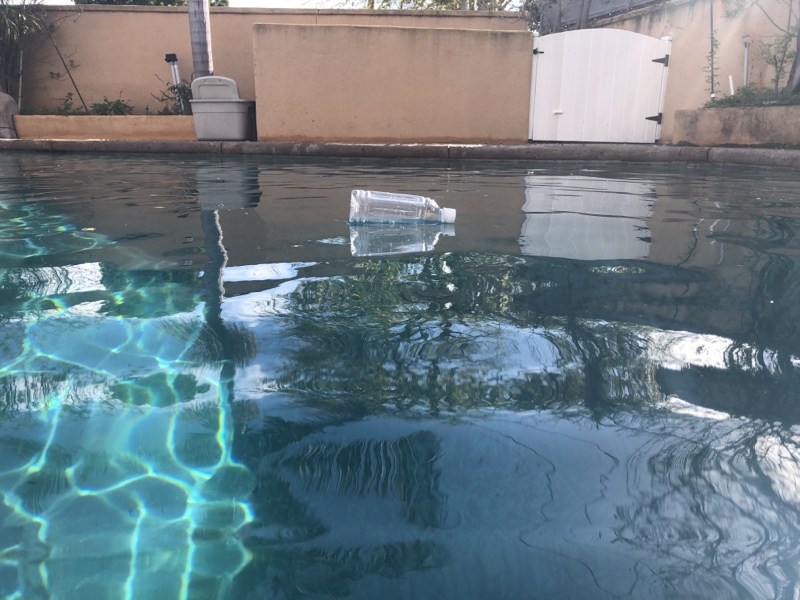Plastic Bottle: (347, 184, 457, 237)
